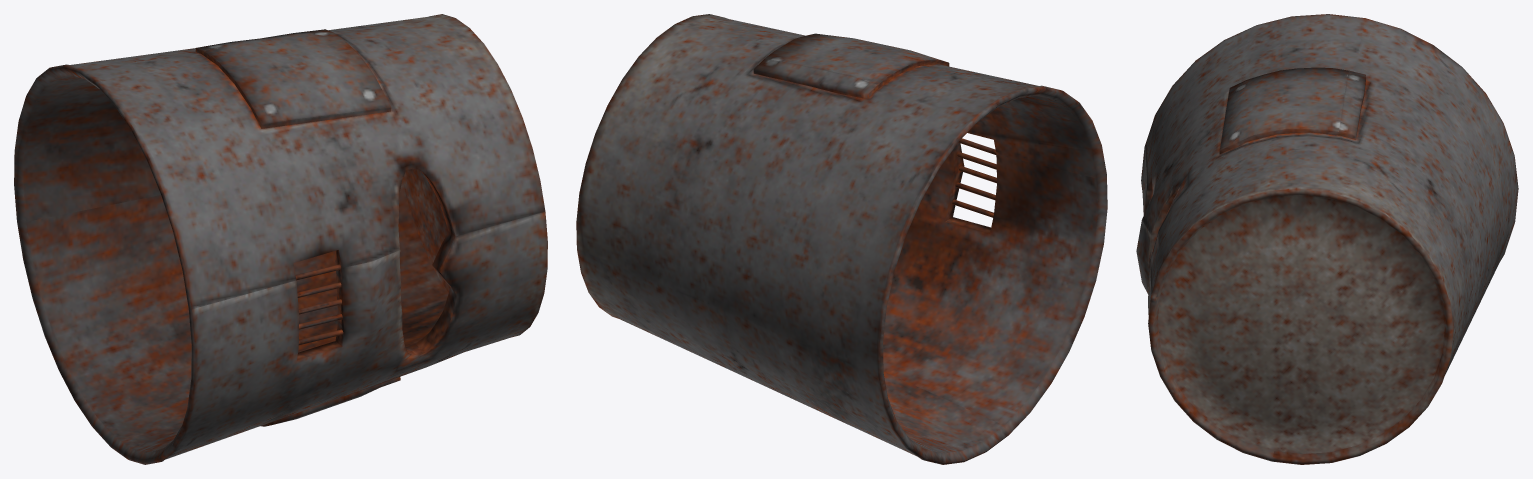
Rendered from M_ScrapHelmet.fbx.
3 views of the same model, side by side, from view 1: azimuth 30°, elevation 25°; view 2: azimuth 150°, elevation 25°; view 3: azimuth 270°, elevation 25° (orthographic). The views are drawn at different scales.
Parts seen in each view (by area): view 1: Cylinder; view 2: Cylinder; view 3: Cylinder.
Boxes of the visible parts, box(x1,y1,x2,y2) form: Cylinder: box(14, 14, 547, 464); Cylinder: box(576, 14, 1107, 464); Cylinder: box(1136, 14, 1518, 464).
Size of the model in its own units: 0.1846 by 0.166 by 0.1719.
